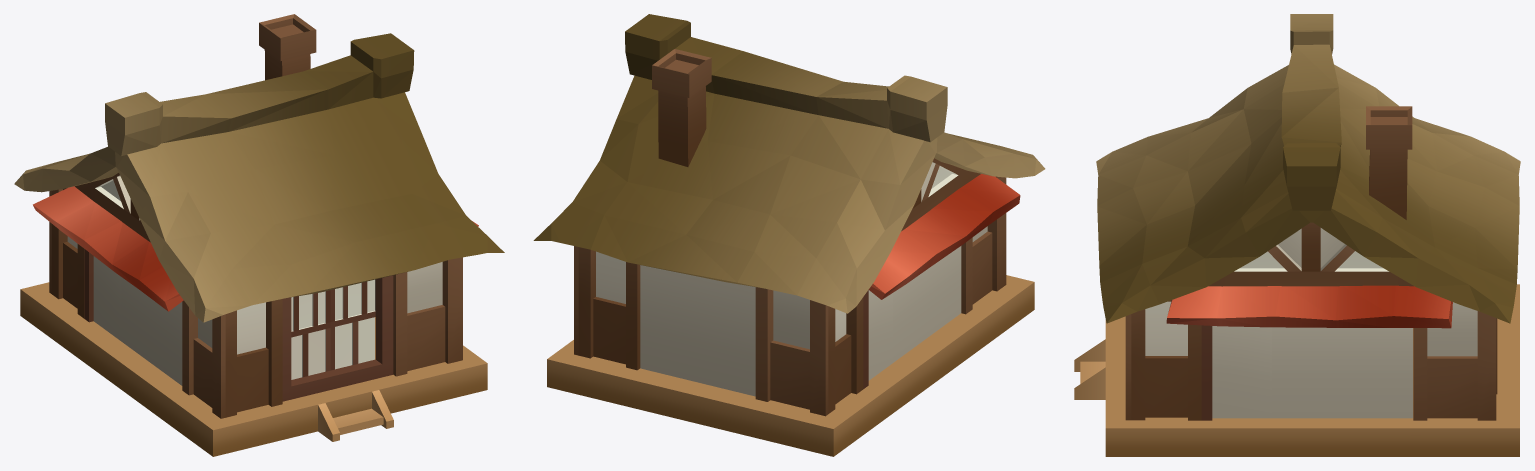
File: House_4x5.gltf
The picture shows the model from 3 angles, left to right: view 1: azimuth 30°, elevation 25°; view 2: azimuth 150°, elevation 25°; view 3: azimuth 270°, elevation 25°; orthographic projection. The views are drawn at different scales.
Parts seen in each view (by area): view 1: House_4x5_RoofOnly.001, House_4x5_Base.001, House_Wall_Corner.009, House_Wall_Corner.012, House_4x5_LowerRoof.002, House_Door_2m_Sliding_Frame.002, House_Wall_2m_White.002, House_Door_Sliding_R.002, House_Door_Sliding_L.002, House_Chimney.001, House_Wall_Corner.010, House_Wall_1m.006 (+1 smaller); view 2: House_4x5_RoofOnly.001, House_4x5_Base.001, House_Wall_2m_White.003, House_Wall_Corner.010, House_Wall_Corner.011, House_4x5_LowerRoof.002, House_Chimney.001, House_Wall_2m_White.002, House_Wall_Corner.009, House_Wall_1m.006, House_4x5_Gable.001; view 3: House_4x5_RoofOnly.001, House_4x5_Base.001, House_Wall_2m_White.001, House_4x5_LowerRoof.001, House_Wall_Corner.011, House_Wall_Corner.012, House_Wall_1m.005, House_4x5_Gable.002, House_Chimney.001.
Part boxes in pixels (x1,y1,x2,y2): House_4x5_RoofOnly.001: (14,33,504,322); House_4x5_Base.001: (20,282,487,456); House_Wall_Corner.009: (182,299,282,418); House_Wall_Corner.012: (393,257,462,376); House_4x5_LowerRoof.002: (33,186,183,311); House_Door_2m_Sliding_Frame.002: (282,275,393,401); House_Wall_2m_White.002: (121,277,182,385); House_Door_Sliding_R.002: (330,279,375,370); House_Door_Sliding_L.002: (291,290,330,379); House_Chimney.001: (259,14,316,80); House_Wall_Corner.010: (49,188,84,318); House_Wall_1m.006: (84,249,121,340); House_4x5_RoofOnly.001: (533,14,1045,313); House_4x5_Base.001: (547,275,1034,456); House_Wall_2m_White.003: (640,265,755,396); House_Wall_Corner.010: (755,287,863,416); House_Wall_Corner.011: (574,246,640,370); House_4x5_LowerRoof.002: (868,174,1020,299); House_Chimney.001: (652,49,711,166); House_Wall_2m_White.002: (893,246,961,362); House_Wall_Corner.009: (961,176,1006,314); House_Wall_1m.006: (863,290,892,388); House_4x5_Gable.001: (901,158,980,231); House_4x5_RoofOnly.001: (1096,14,1520,323); House_4x5_Base.001: (1074,284,1519,456); House_Wall_2m_White.001: (1272,327,1412,418); House_4x5_LowerRoof.001: (1166,285,1452,328); House_Wall_Corner.011: (1413,302,1497,420); House_Wall_Corner.012: (1125,300,1201,420); House_Wall_1m.005: (1201,325,1272,420); House_4x5_Gable.002: (1208,222,1413,286); House_Chimney.001: (1366,106,1412,219).
Bounding box in the file's own units: 5.52 × 4.78 × 6.34.
Materials: 1 (1 with a texture image).
